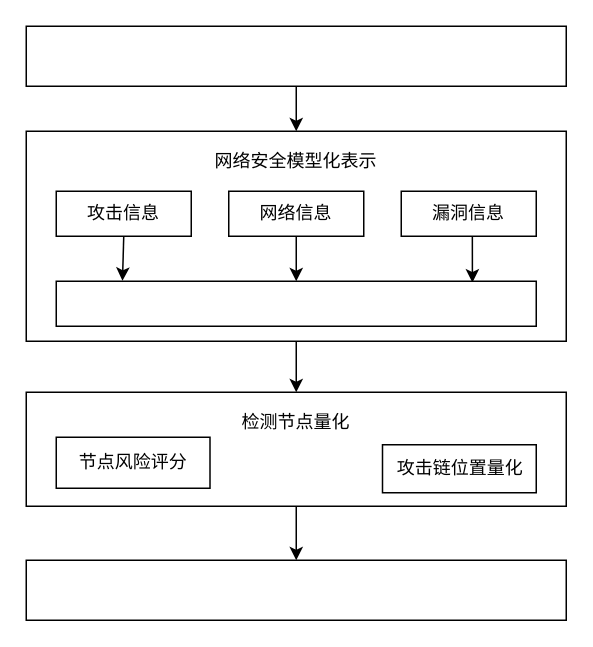
The diagram is 593 pixels wide and 647 high, and some of its shapes have lost their labels. The shapes that lost their labels are listed below. From the top down, each one's centre as x and y in pixels, then its label:
pixel 295 55: 漏洞信息获取阶段
pixel 295 303: 模型化表示
pixel 295 589: 检测路径图生成算法
